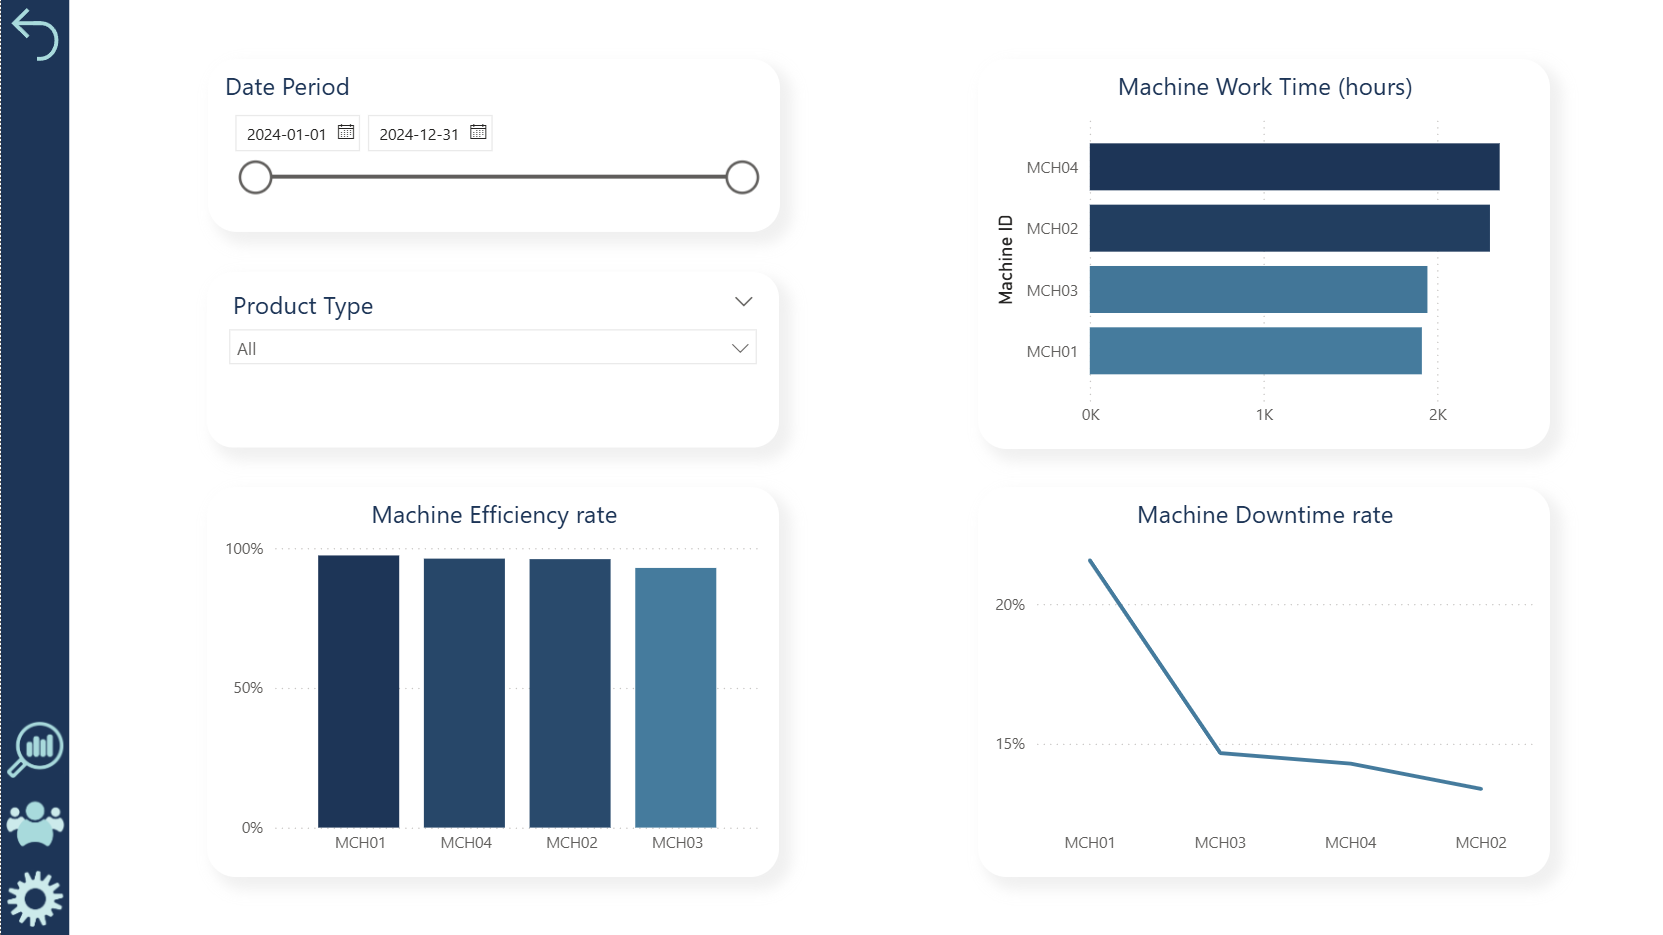

This screenshot's page, from the dashboard's own definition file:
{"tool":"powerbi","page":{"name":"Machine Detail","canvas":[1280,720],"ordinal":2},"visuals":[{"type":"columnChart","title":"Machine Efficiency rate","fields":{"Category":["Machine Lookup.Machine ID"],"Y":["Measure Table.Production Efficiency %"]},"box":[158.3,374.8,440,300],"z":0},{"type":"actionButton","box":[0,548.2,52.7,57.3],"z":0,"group":"g1"},{"type":"lineChart","title":"Machine Downtime rate","fields":{"Y":["Measure Table.Downtime %"],"Category":["Machine Lookup.Machine ID"]},"box":[751.7,374.8,440,300],"z":1000},{"type":"actionButton","box":[0,605.5,52.7,57.3],"z":1000,"group":"g1"},{"type":"shape","title":"Nav Bar","box":[0,0,52.5,720],"z":2000},{"type":"actionButton","box":[0,662.7,52.7,57.3],"z":2000,"group":"g1"},{"type":"slicer","title":"Date Period","fields":{"Values":["Calendar Lookup.Date"]},"box":[158.9,45.6,440,133.3],"z":3000},{"type":"slicer","fields":{"Values":["Product Lookup.Product Type"]},"box":[158.3,209.4,440,135],"z":4000},{"type":"barChart","title":"Machine Work Time (hours)","fields":{"Category":["Machine Lookup.Machine ID"],"Y":["Measure Table.Total Work Time"]},"box":[751.7,45.7,440,300],"z":5000},{"type":"group","id":"g1","title":"Navigation","box":[0,548.2,52.7,171.8],"z":6000},{"type":"actionButton","title":"Reset","box":[0,0,52.7,53.6],"z":7000}]}

Visuals, with their boxes on the page's 1280x720 design canvas (x1, y1, x2, y2). These are canvas units, not pixel positions in the 1663x935 screenshot, which may show the page scaled, cropped or inside an application window:
"Machine Efficiency rate" columnChart: <region>158, 375, 598, 675</region>
actionButton: <region>0, 548, 53, 606</region>
"Machine Downtime rate" lineChart: <region>752, 375, 1192, 675</region>
actionButton: <region>0, 606, 53, 663</region>
"Nav Bar" shape: <region>0, 0, 52, 720</region>
actionButton: <region>0, 663, 53, 720</region>
"Date Period" slicer: <region>159, 46, 599, 179</region>
slicer - Product Lookup.Product Type: <region>158, 209, 598, 344</region>
"Machine Work Time (hours)" barChart: <region>752, 46, 1192, 346</region>
"Navigation" group: <region>0, 548, 53, 720</region>
"Reset" actionButton: <region>0, 0, 53, 54</region>
